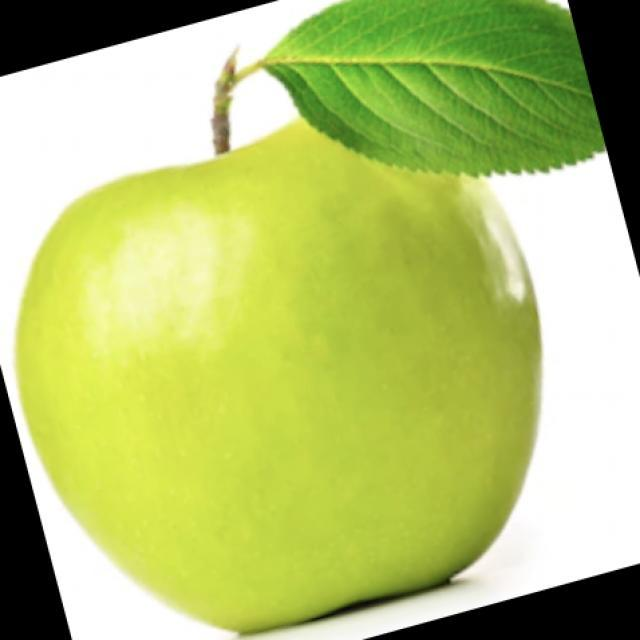Fresh Apple: (16, 130, 542, 603)
